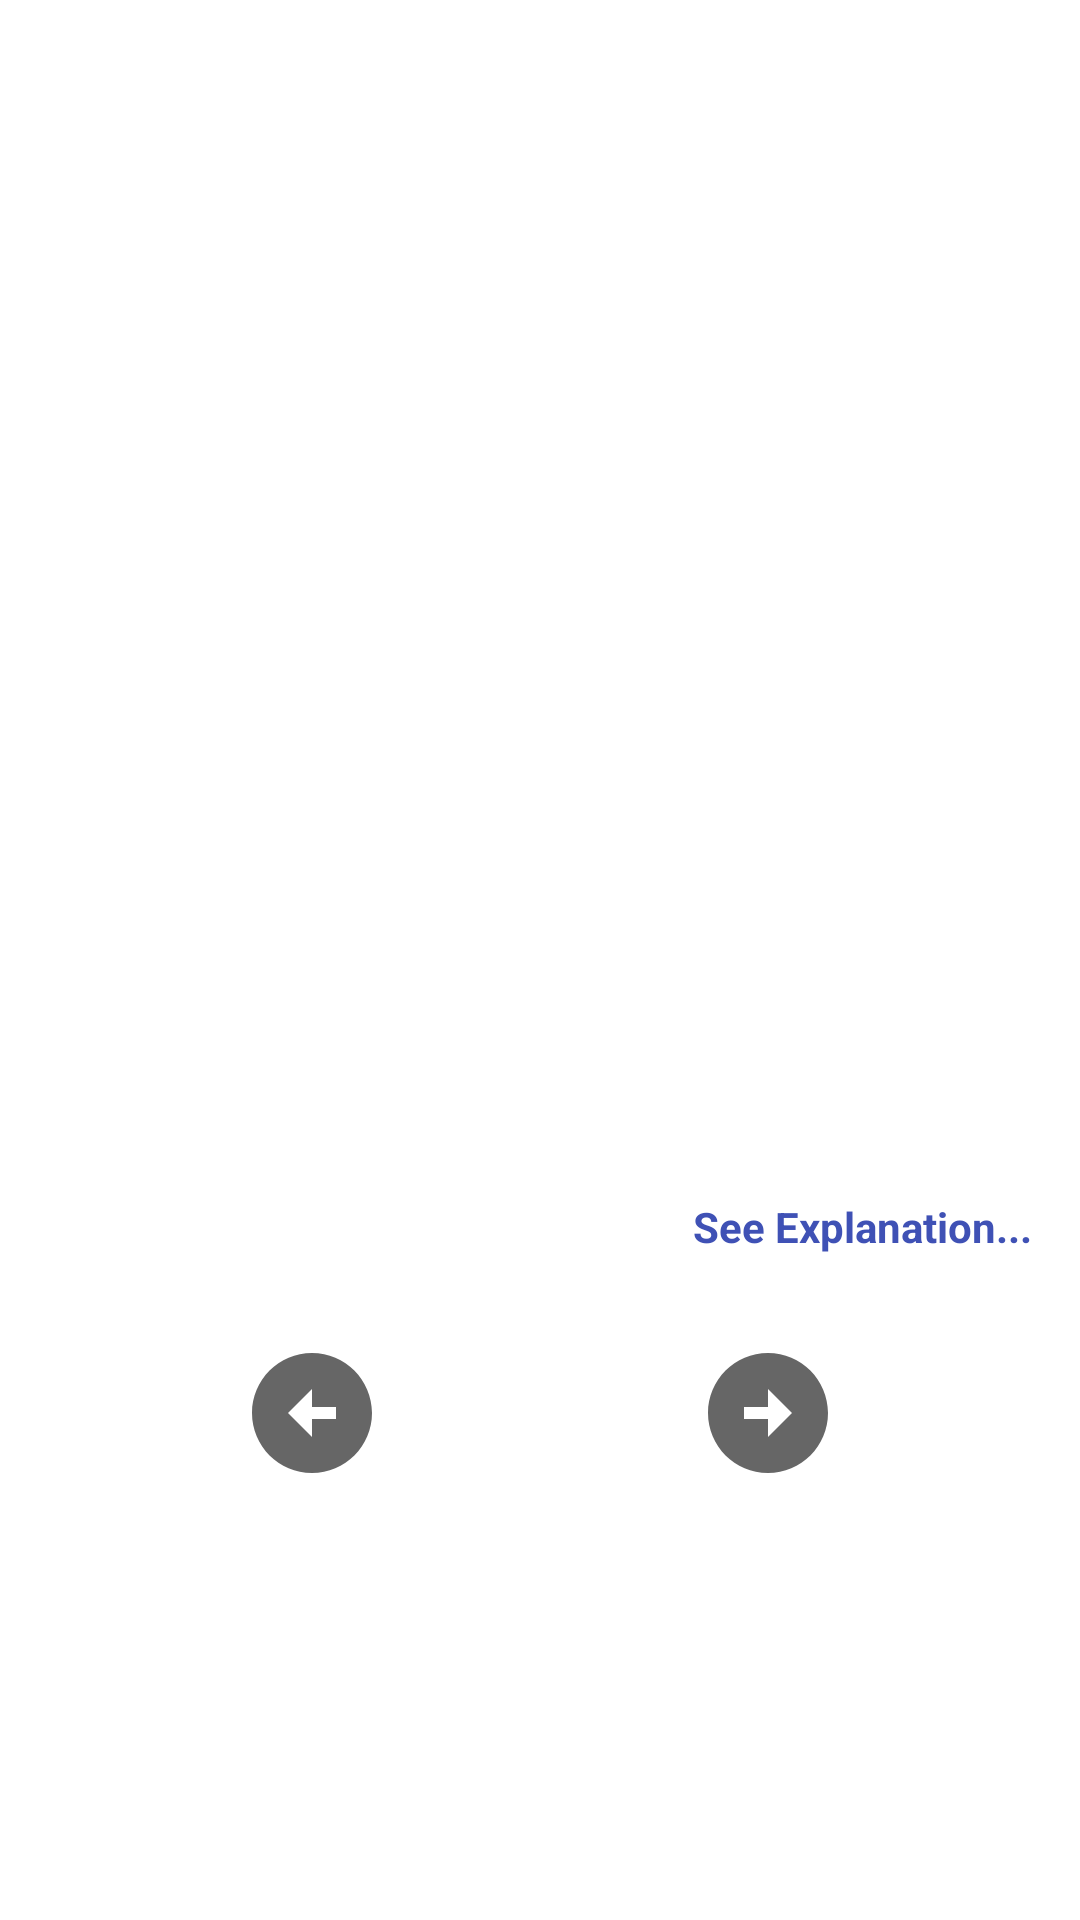

Where to tap for icons on this 1080px×1920px app screen, as (x=x, y=y):
arrow circle left: (x=312, y=1413)
arrow circle right: (x=768, y=1413)
